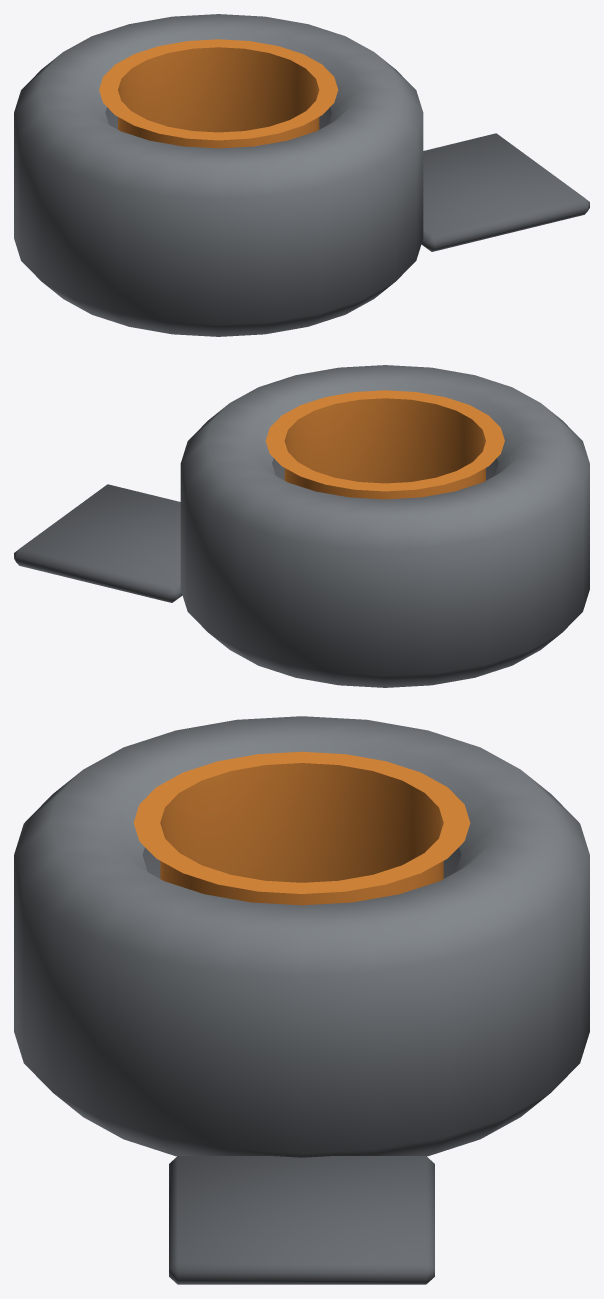
The model's file is SM_DuctTape_01.glb.
3 views of the same model, one above another, from view 1: azimuth 30°, elevation 25°; view 2: azimuth 150°, elevation 25°; view 3: azimuth 270°, elevation 25° (orthographic). The views are drawn at different scales.
Parts seen in each view (by area): view 1: SM_DuctTape_01; view 2: SM_DuctTape_01; view 3: SM_DuctTape_01.
Part boxes in pixels (x1,y1,x2,y2): SM_DuctTape_01: (14, 14, 589, 336); SM_DuctTape_01: (14, 365, 589, 687); SM_DuctTape_01: (14, 716, 589, 1284).
Size of the model in its own units: 0.185 by 0.06 by 0.13.
Materials: 1 (1 with a texture image).
